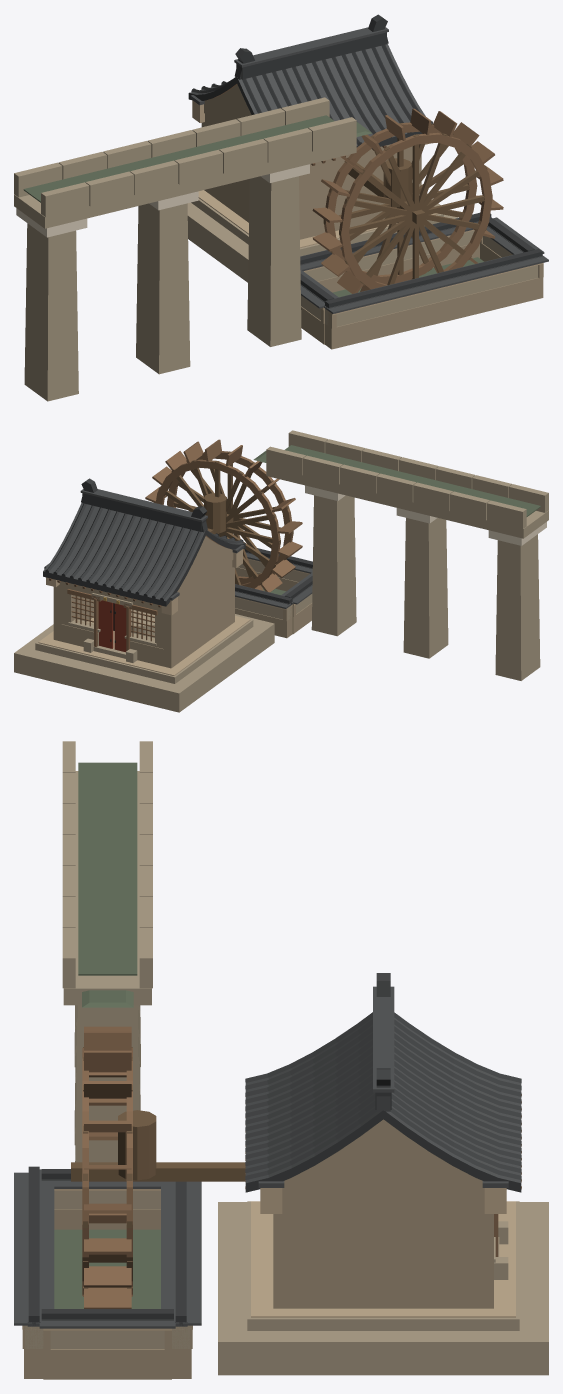
3 views of the same model, one above another, from view 1: azimuth 30°, elevation 25°; view 2: azimuth 150°, elevation 25°; view 3: azimuth 270°, elevation 25° (orthographic). The views are drawn at different scales.
Visible parts, largest first — view 1: B03; view 2: B03; view 3: B03.
Boxes of the visible parts, x1,y1,x2,y2 form: B03: [14, 14, 548, 401]; B03: [14, 430, 548, 712]; B03: [14, 741, 548, 1379].
Size of the model in its own units: 22.05 by 9 by 14.55.
